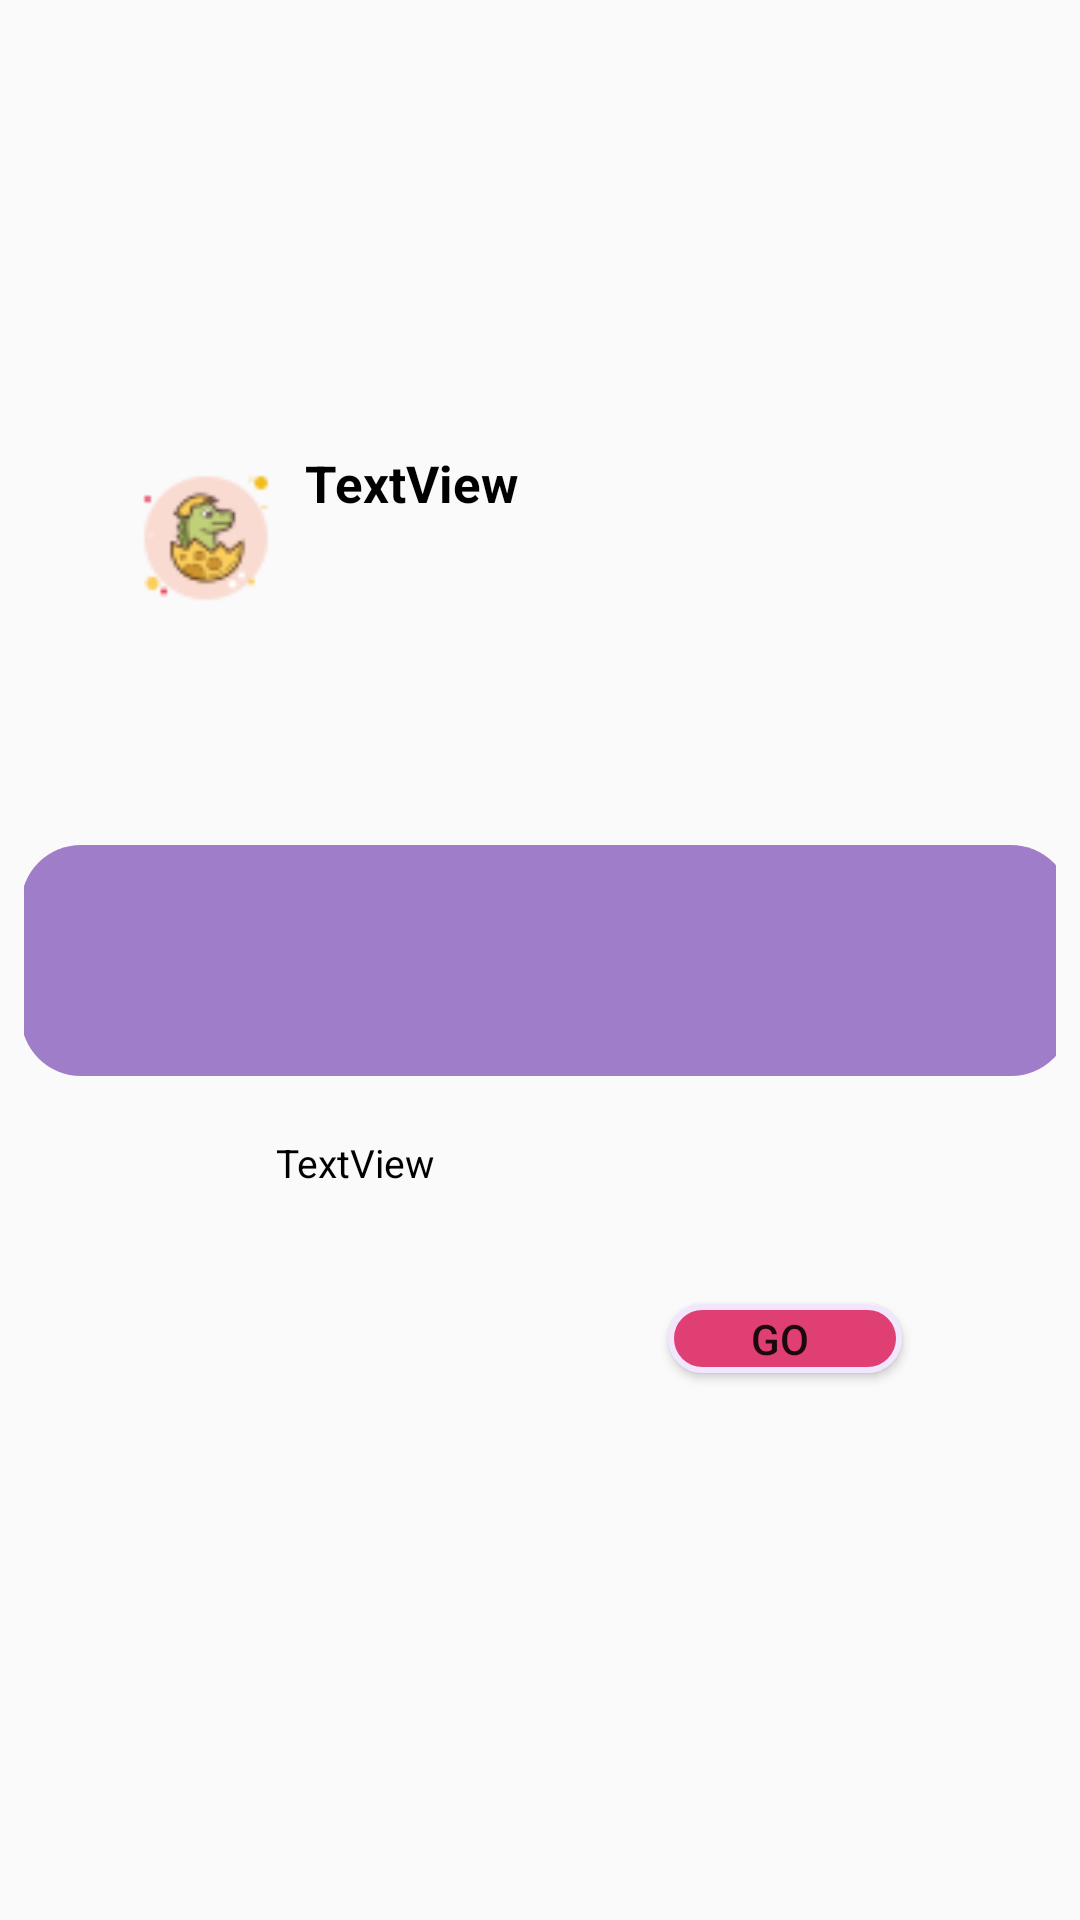

Where to tap for icons on this 1080×1920 app screen, as [x,y]:
dino egg: [206,537]
